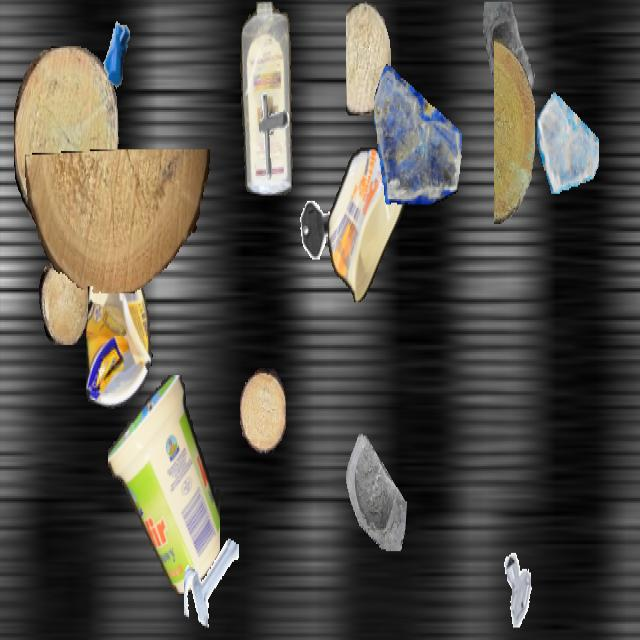glass: (374, 52, 462, 208), (333, 418, 407, 549), (479, 1, 543, 116), (537, 84, 599, 194)
metal: (89, 2, 143, 98), (184, 530, 238, 626), (244, 87, 298, 183), (498, 548, 542, 626), (298, 190, 340, 265)
plastic: (108, 375, 220, 596), (328, 147, 406, 300), (86, 235, 154, 409), (238, 2, 296, 194)
wood: (25, 150, 211, 292), (14, 46, 118, 231), (494, 39, 534, 224), (346, 1, 390, 116), (39, 258, 87, 343), (240, 368, 286, 453)
